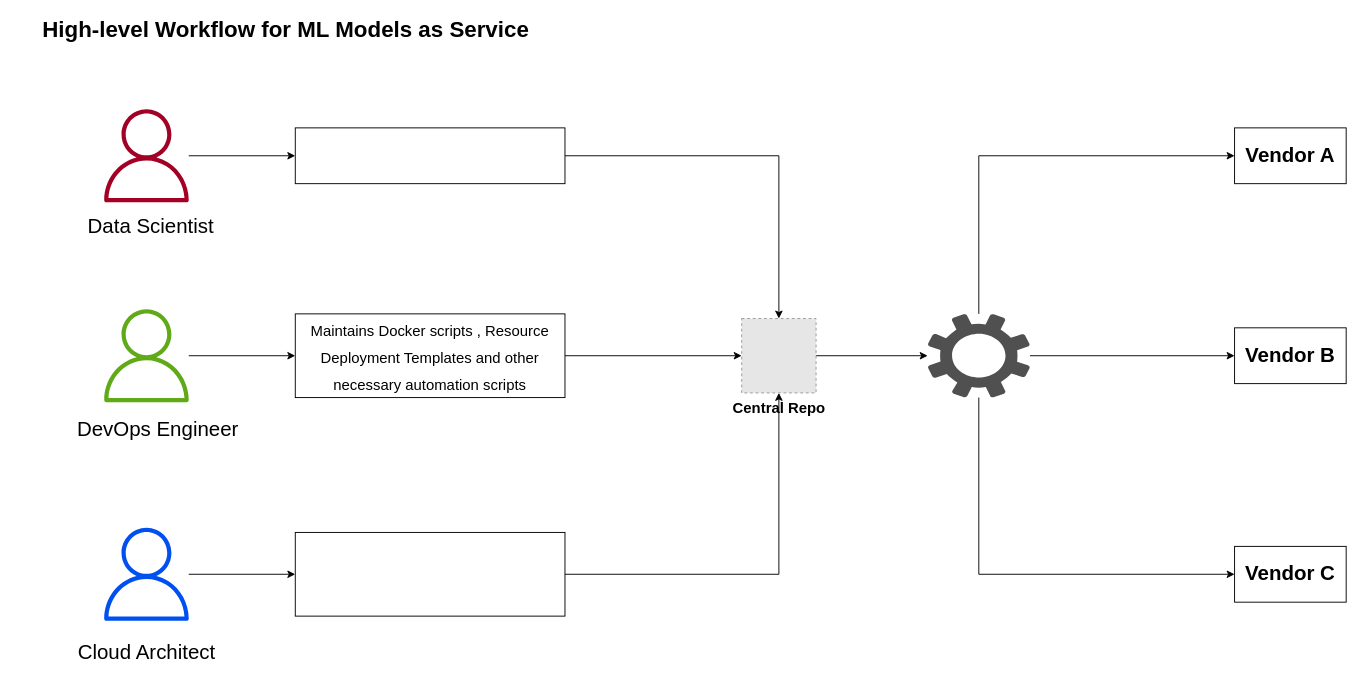
Some shapes in this 1362 by 683 pixel diagram are drawn without their labels. Grey dashed boxes stand in for pictures. The centre of each missing label's shape, as x and y in pixels:
"Develops production grade ML Model" goes at [429,155].
"DevOps Pipelines" goes at [978,355].
"Manages Resource Governance , Architecture compliance and overall control" goes at [429,573].
